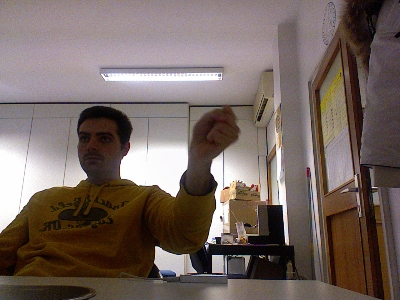石头: (187, 103, 239, 161)
